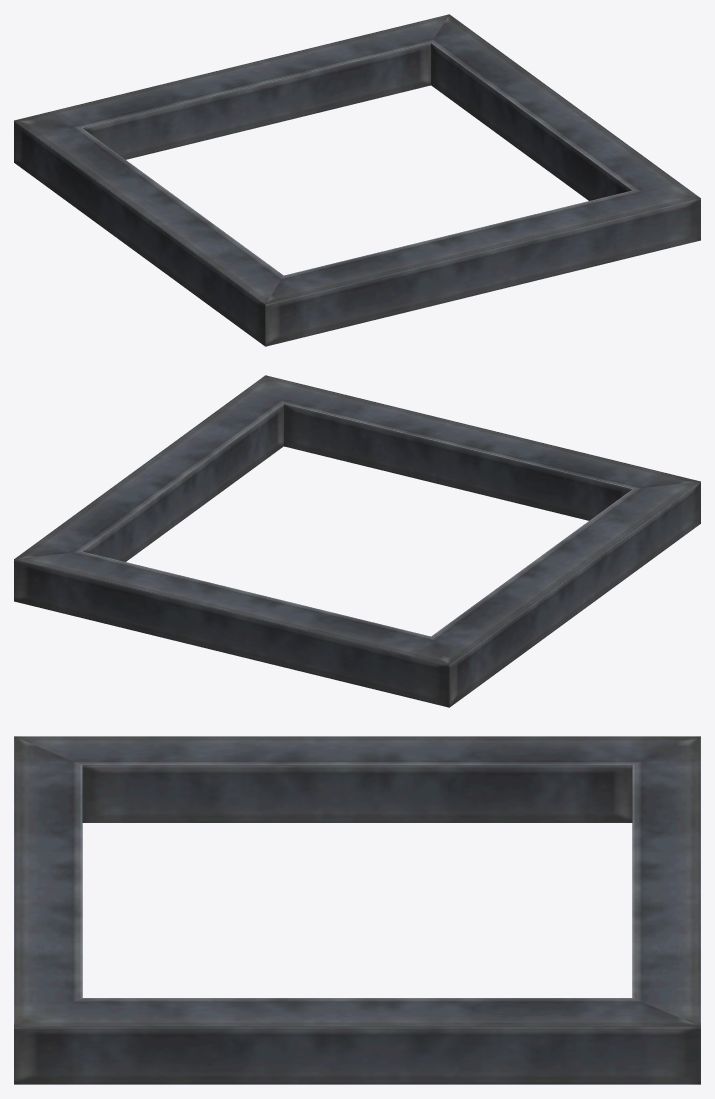
Rendered from ventFrame.fbx.
The picture shows the model from 3 angles, top to bottom: view 1: azimuth 30°, elevation 25°; view 2: azimuth 150°, elevation 25°; view 3: azimuth 270°, elevation 25°; orthographic projection. The views are drawn at different scales.
Visible parts, largest first — view 1: ventFrame; view 2: ventFrame; view 3: ventFrame.
Boxes of the visible parts, bbox=[...] form: ventFrame: bbox=[14, 14, 700, 346]; ventFrame: bbox=[14, 375, 700, 707]; ventFrame: bbox=[14, 736, 700, 1084].
Bounding box in the file's own units: 2.26 × 0.2097 × 2.26.
